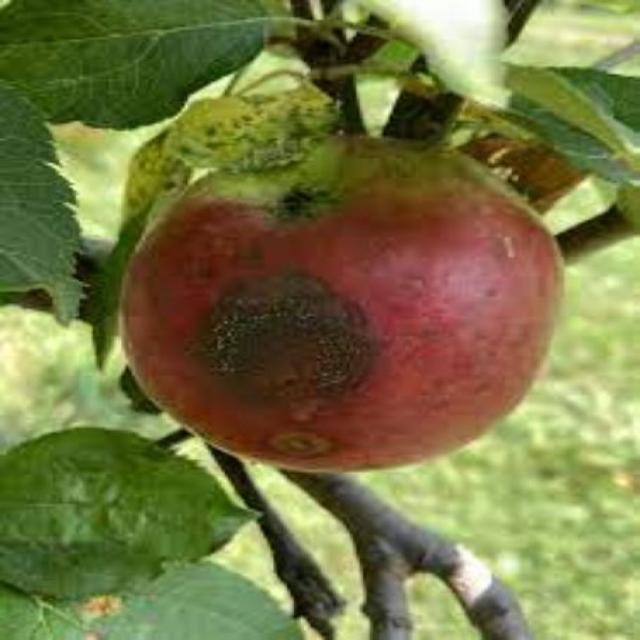Rotten Apple: (94, 99, 596, 479)
